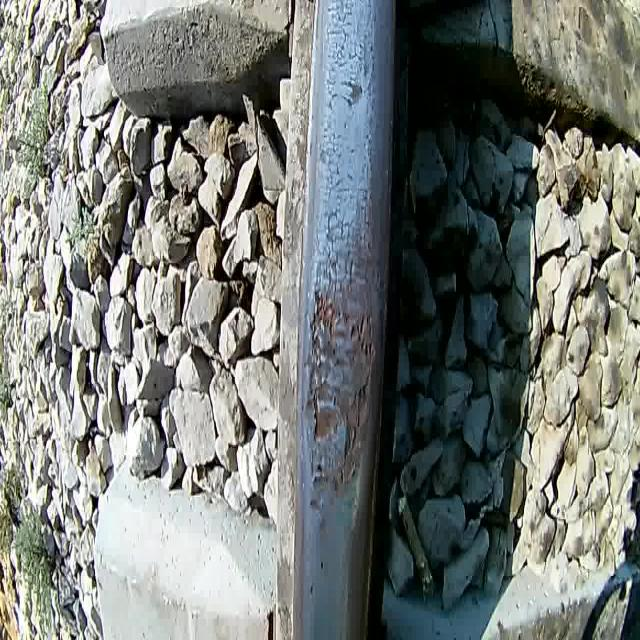Cracks: (314, 117, 381, 296), (321, 0, 380, 109)
Spallings: (305, 366, 378, 492), (305, 282, 343, 362), (347, 300, 378, 364)
Squats: (304, 268, 377, 546), (333, 74, 367, 115)
